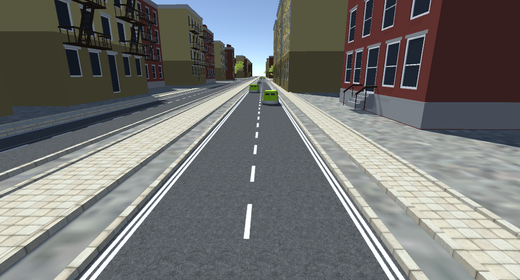centerstrip: (3, 93, 201, 155), (240, 88, 268, 250)
sidestripe: (78, 109, 236, 279), (281, 102, 407, 280)
